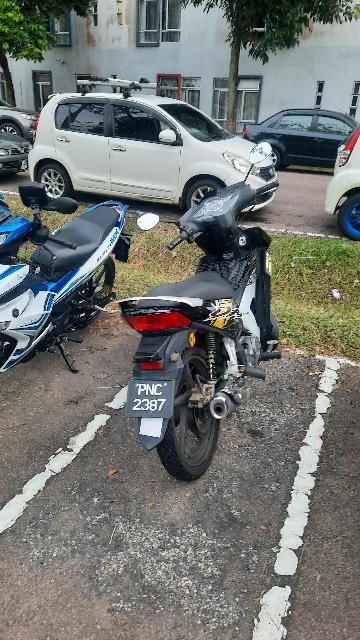License_Plate: (125, 379, 178, 420)
car: (27, 71, 283, 222), (240, 92, 360, 196)
motorcycle: (108, 125, 270, 493), (2, 159, 151, 397)
